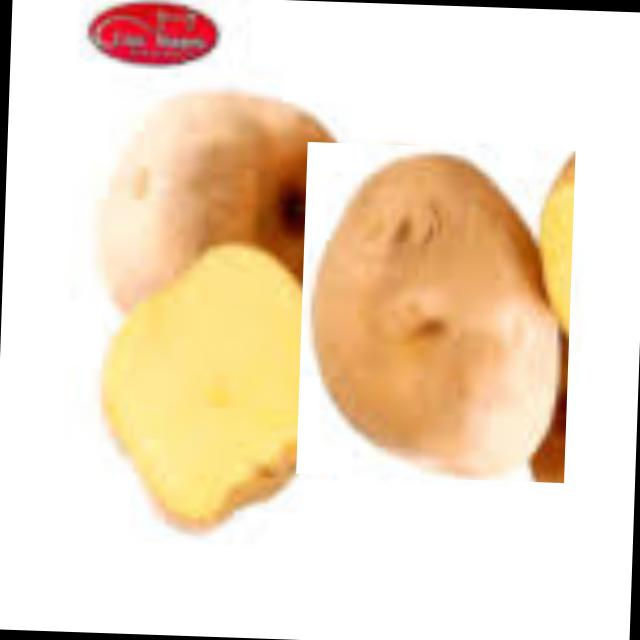Diseased-fungal potato: (90, 76, 355, 358)
Potato: (295, 140, 574, 482)
